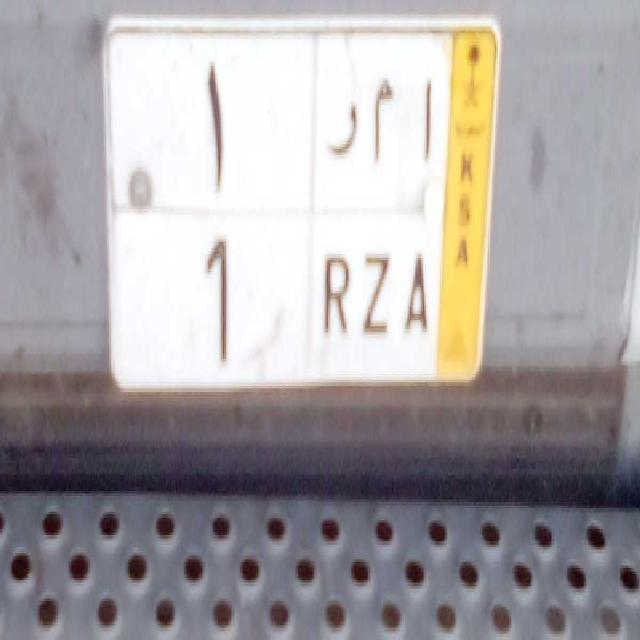license_plate: (111, 202, 438, 382)
